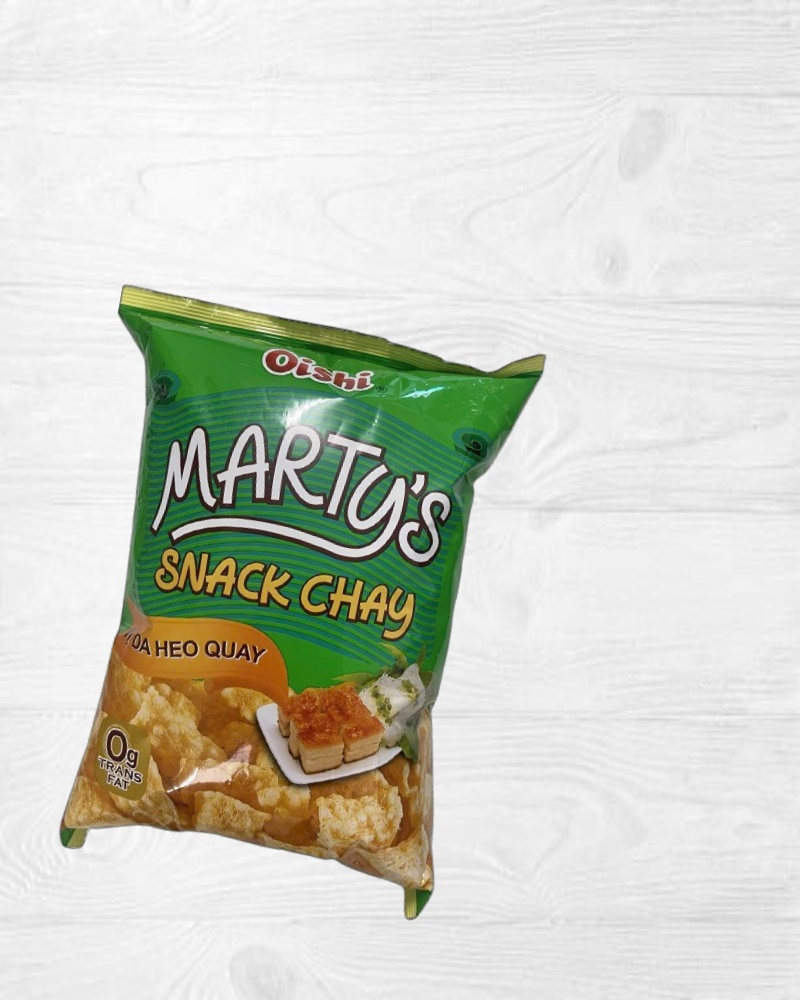Snack chay: (24, 281, 547, 927)
